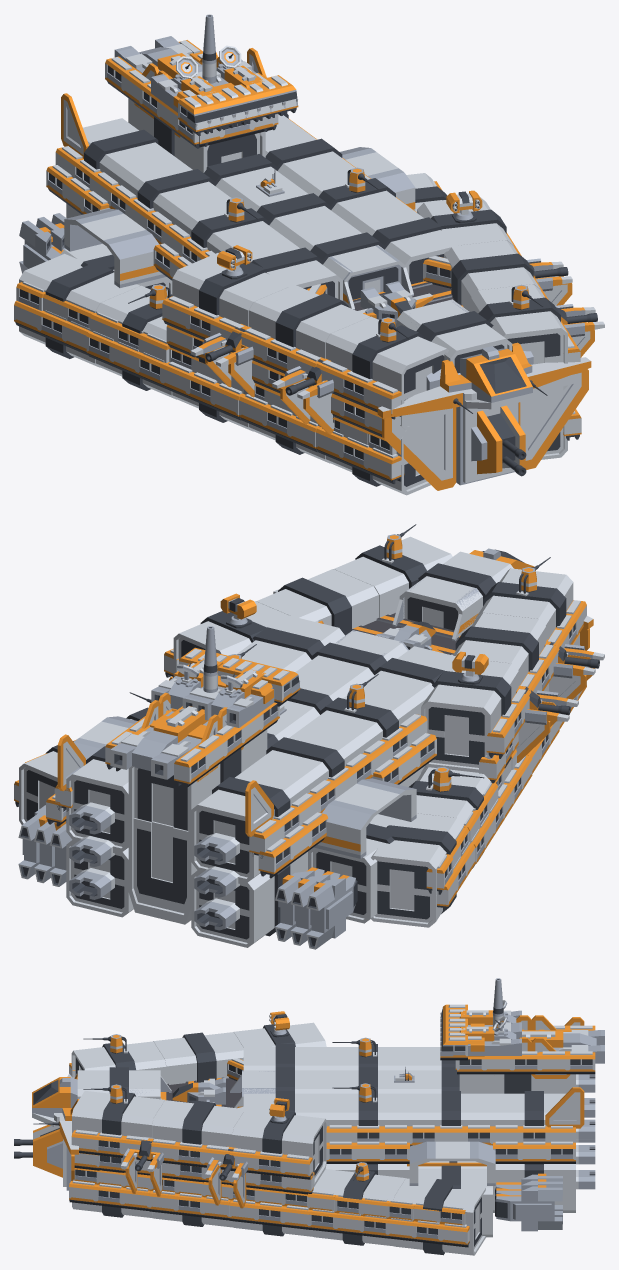
File: armiral_1.glb
3 renders of one model, top to bottom at view 1: azimuth 30°, elevation 25°; view 2: azimuth 150°, elevation 25°; view 3: azimuth 270°, elevation 25°, orthographic. The views are drawn at different scales.
Visible parts, largest first — view 1: mergedBlocks(Clone); view 2: mergedBlocks(Clone); view 3: mergedBlocks(Clone).
Boxes of the visible parts, x1,y1,x2,y2 form: mergedBlocks(Clone): [14, 14, 604, 495]; mergedBlocks(Clone): [14, 524, 604, 949]; mergedBlocks(Clone): [14, 978, 604, 1255].
Size of the model in its own units: 13.88 by 8.1 by 21.35.
1 material, 1 textured.
